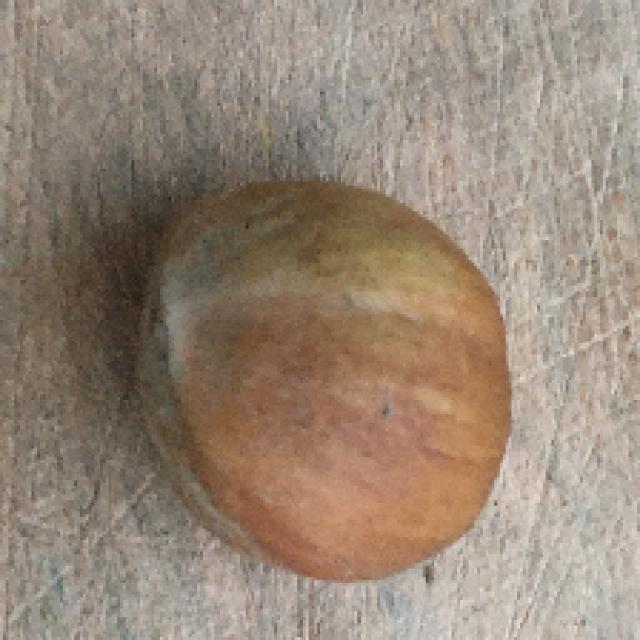DamagedHazelnut: (133, 180, 514, 579)
